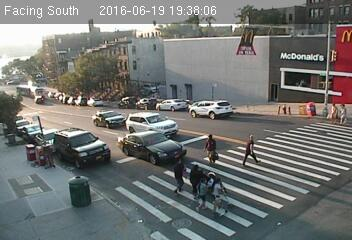neg: (35, 142, 58, 171), (29, 112, 45, 132), (280, 102, 288, 113), (116, 80, 124, 90), (47, 75, 53, 83)
pos: (165, 157, 191, 192), (237, 131, 262, 164), (182, 163, 207, 196), (189, 177, 214, 210), (198, 132, 221, 164), (206, 173, 229, 203), (326, 100, 343, 123), (334, 101, 351, 124)
